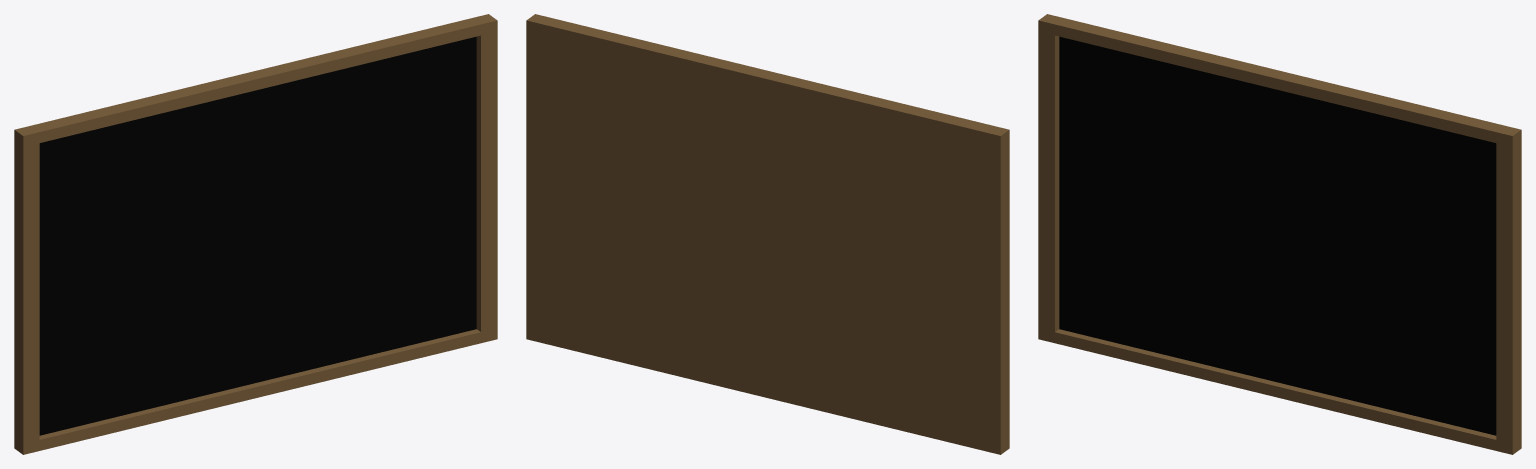
The model's file is R_Board.fbx.
3 views of the same model, side by side, from view 1: azimuth 30°, elevation 25°; view 2: azimuth 150°, elevation 25°; view 3: azimuth 330°, elevation 25° (orthographic).
Visible parts, largest first — view 1: R_Board; view 2: R_Board; view 3: R_Board.
Part boxes in pixels (<box>): R_Board: <box>14,14,497,454</box>; R_Board: <box>526,14,1009,454</box>; R_Board: <box>1038,14,1521,454</box>.
Bounding box in the file's own units: 899 × 28.96 × 578.
